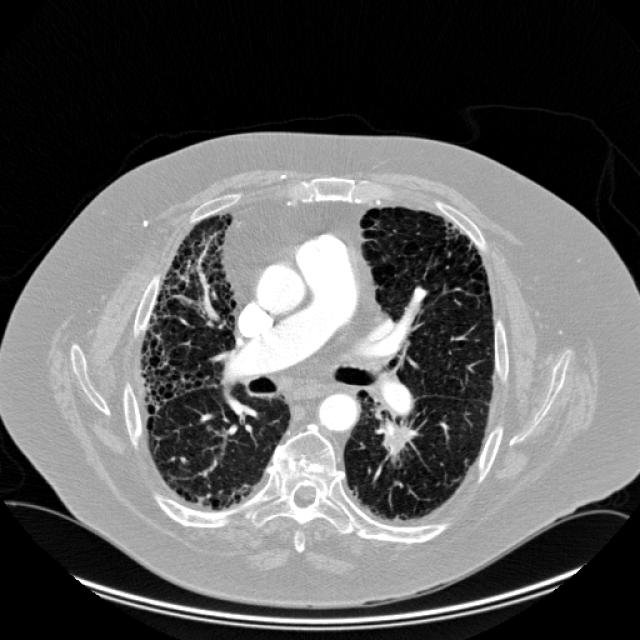nodule: (366, 410, 426, 470)
